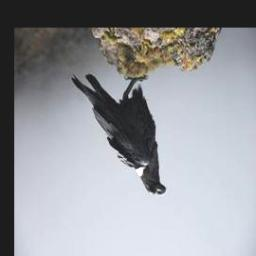Crow: (69, 69, 167, 202)
